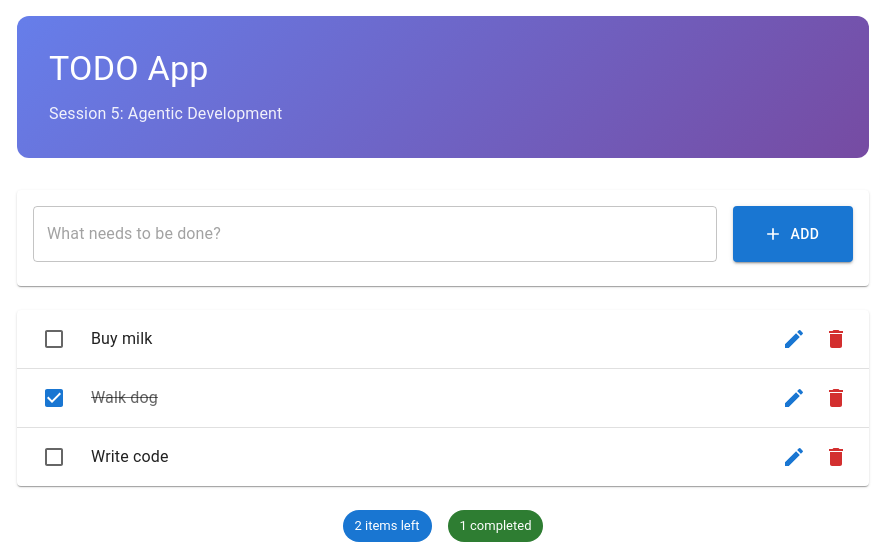
it: edit › cancels editing without saving
Expected: the text "Buy milk" is shown, [91,329,152,348]
Click the button named "edit buy milk".
click(794, 339)  # box [777,322,811,356]
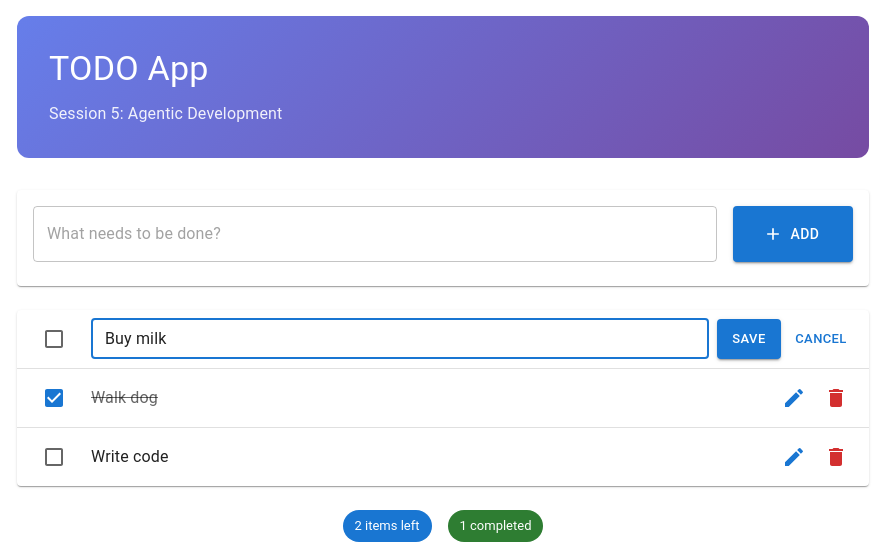
Click the button "Cancel".
click(821, 339)  # box [789,319,853,359]
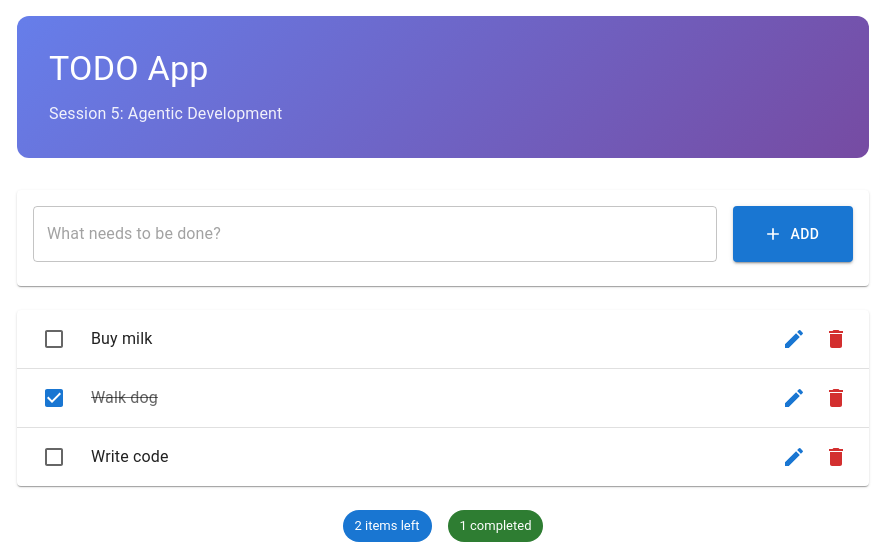
Expected: the text "Buy milk" is shown, [91,329,152,348]
